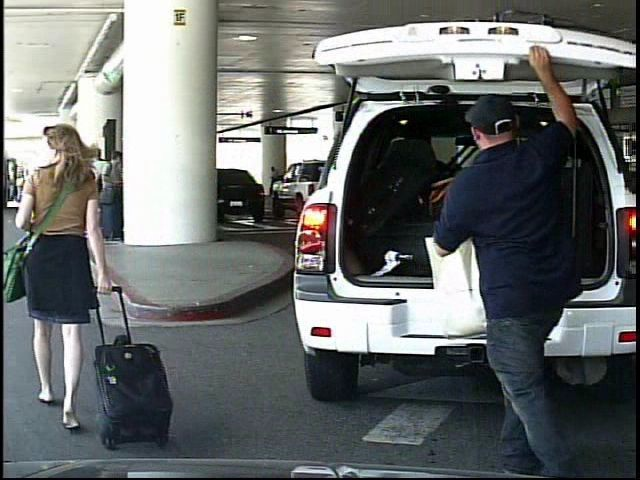person: (423, 54, 607, 479), (10, 115, 130, 438), (267, 165, 280, 185), (16, 173, 24, 204)
